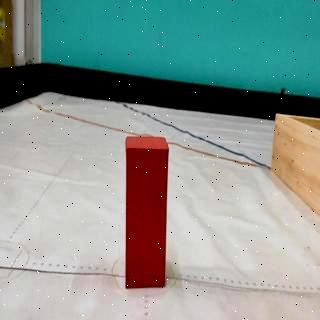redbox: (124, 134, 168, 289)
